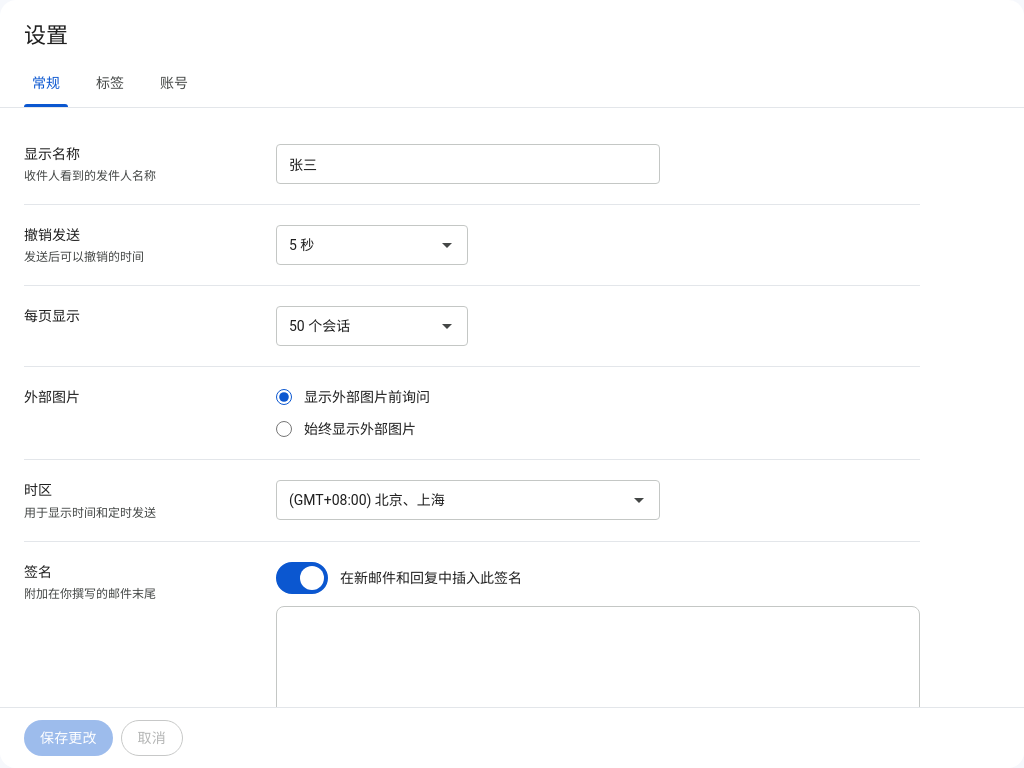
Settings → 常规 › 取消 restores the saved values
Replace the text in the field labelled "显示名称" with "临时": (468, 164) [289, 146, 647, 184]
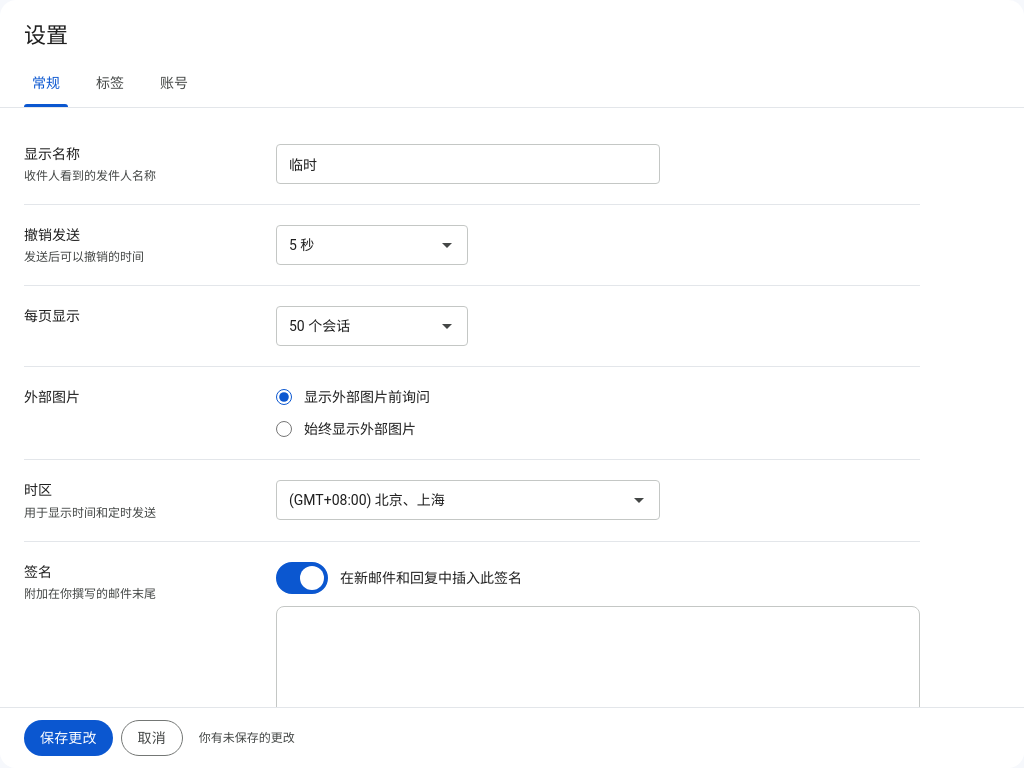
expect the text "你有未保存的更改" is shown: met, box [199, 730, 295, 746]
Click the button "取消": (152, 738) [121, 720, 183, 756]
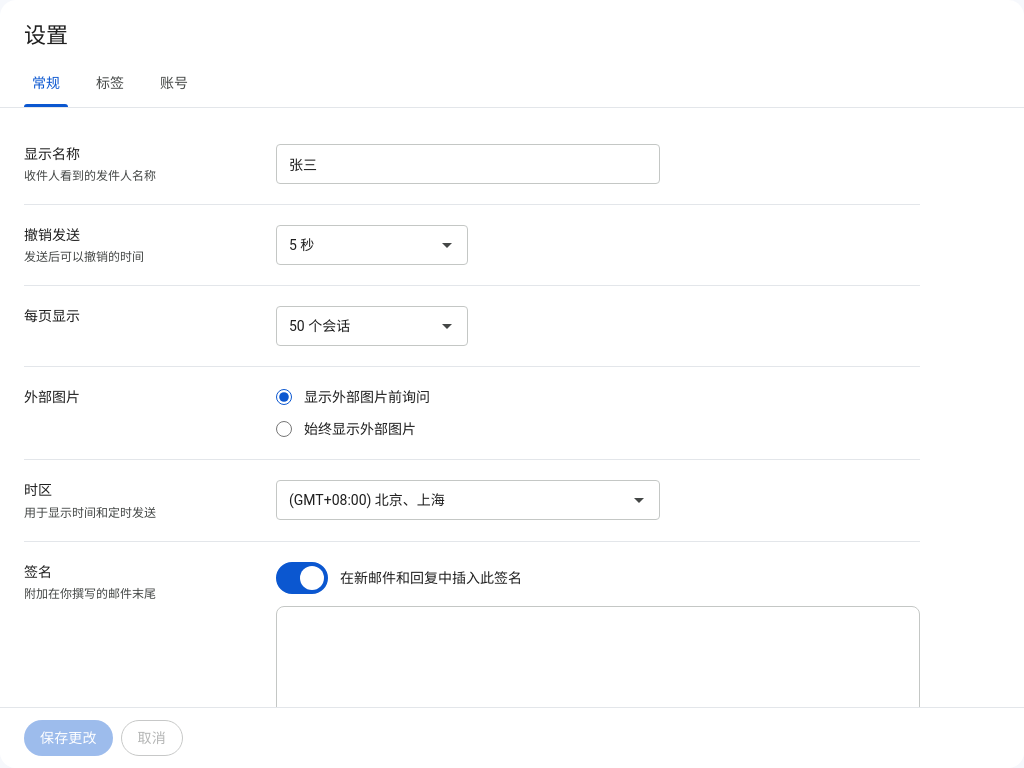
expect the field labelled "显示名称" holds "张三": met, box [289, 146, 647, 184]
expect the button "保存更改" is disabled: met, box [24, 720, 113, 756]
